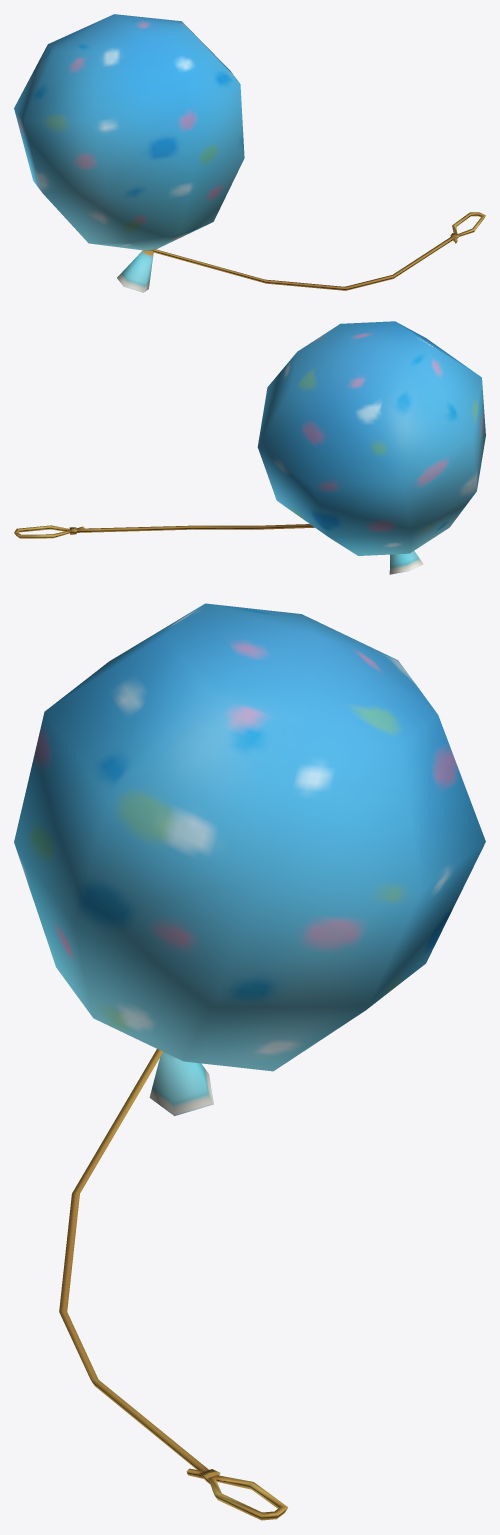
The model's file is jsf_WaterBalloon_20_b.fbx.
The picture shows the model from 3 angles, top to bottom: view 1: azimuth 30°, elevation 25°; view 2: azimuth 150°, elevation 25°; view 3: azimuth 270°, elevation 25°; orthographic projection. The views are drawn at different scales.
Visible parts, largest first — view 1: jsf_WaterBalloon_20_b; view 2: jsf_WaterBalloon_20_b; view 3: jsf_WaterBalloon_20_b.
Boxes of the visible parts, x1,y1,x2,y2 form: jsf_WaterBalloon_20_b: (14,14,485,292); jsf_WaterBalloon_20_b: (14,321,485,574); jsf_WaterBalloon_20_b: (14,603,485,1520).
Size of the model in its own units: 24.35 by 14.34 by 11.11.
